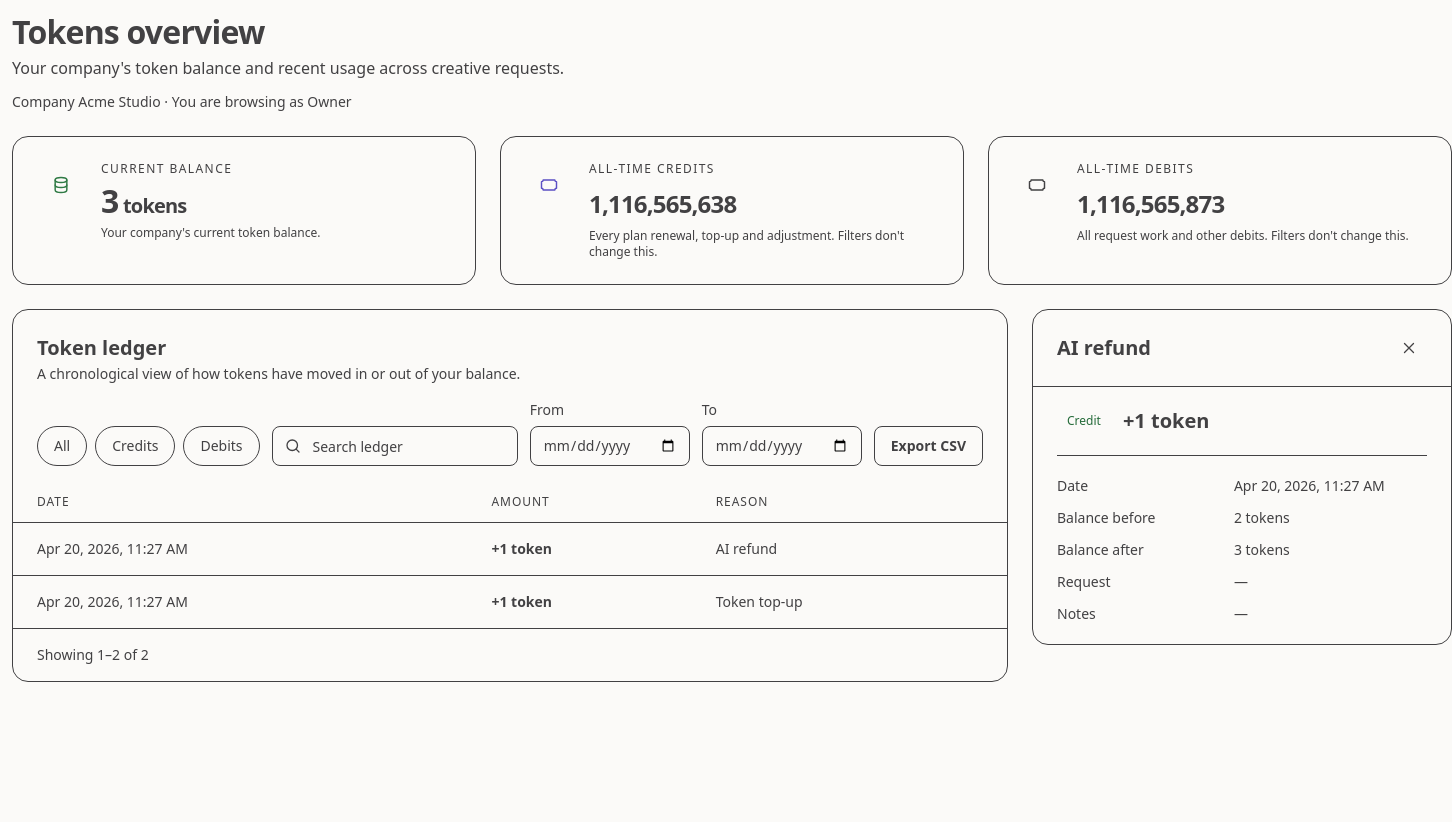
Customer tokens › searches on the server after a pause in typing
This screenshot has width=1452, height=822.
Expected: the text "Showing 1–2 of 2" is shown, [37,645,149,665]
In the search field: (395, 446) [272,426,518,466], type "t"
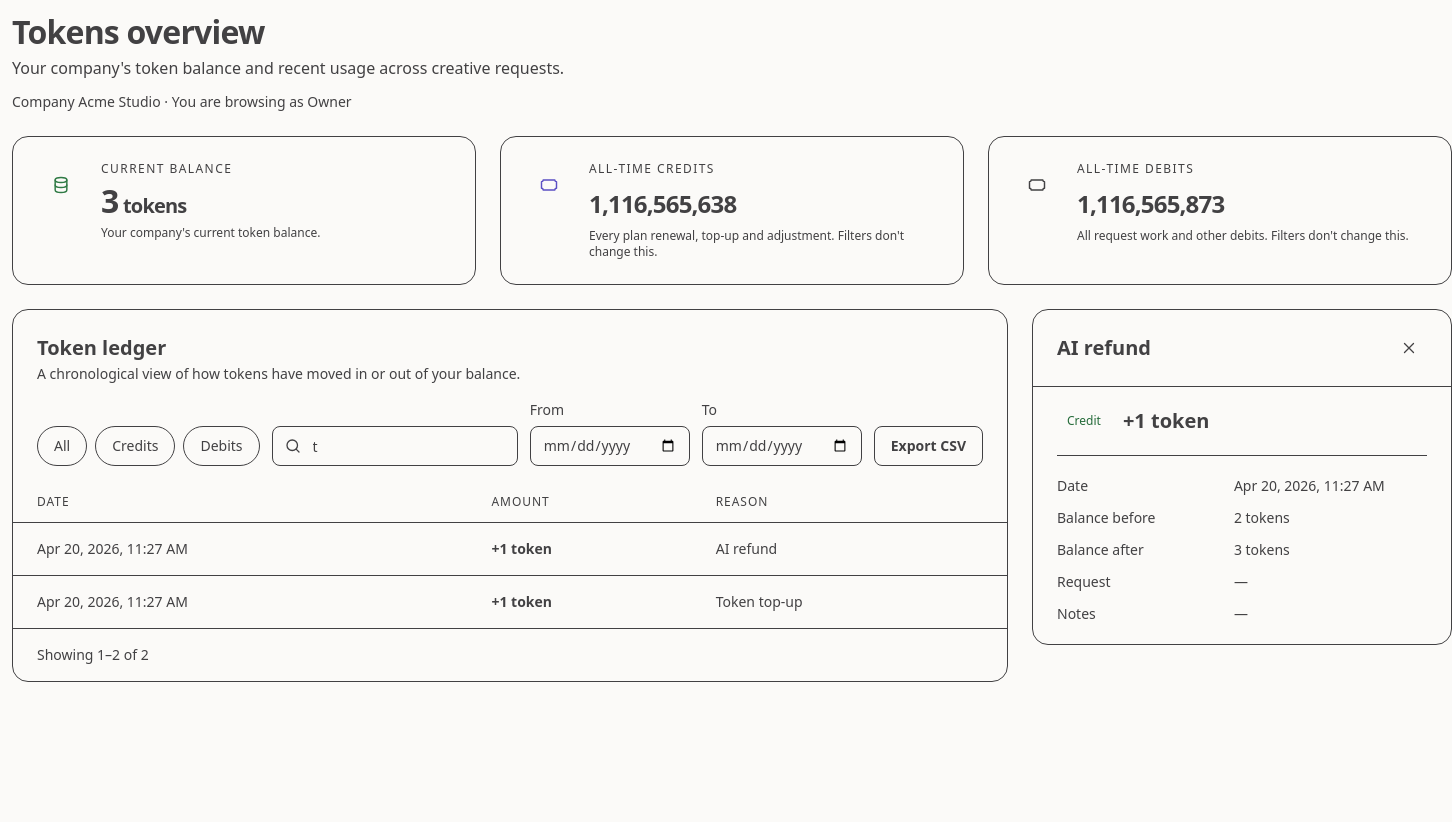
Replace the text in the search field with "topup": (395, 446) [272,426,518,466]
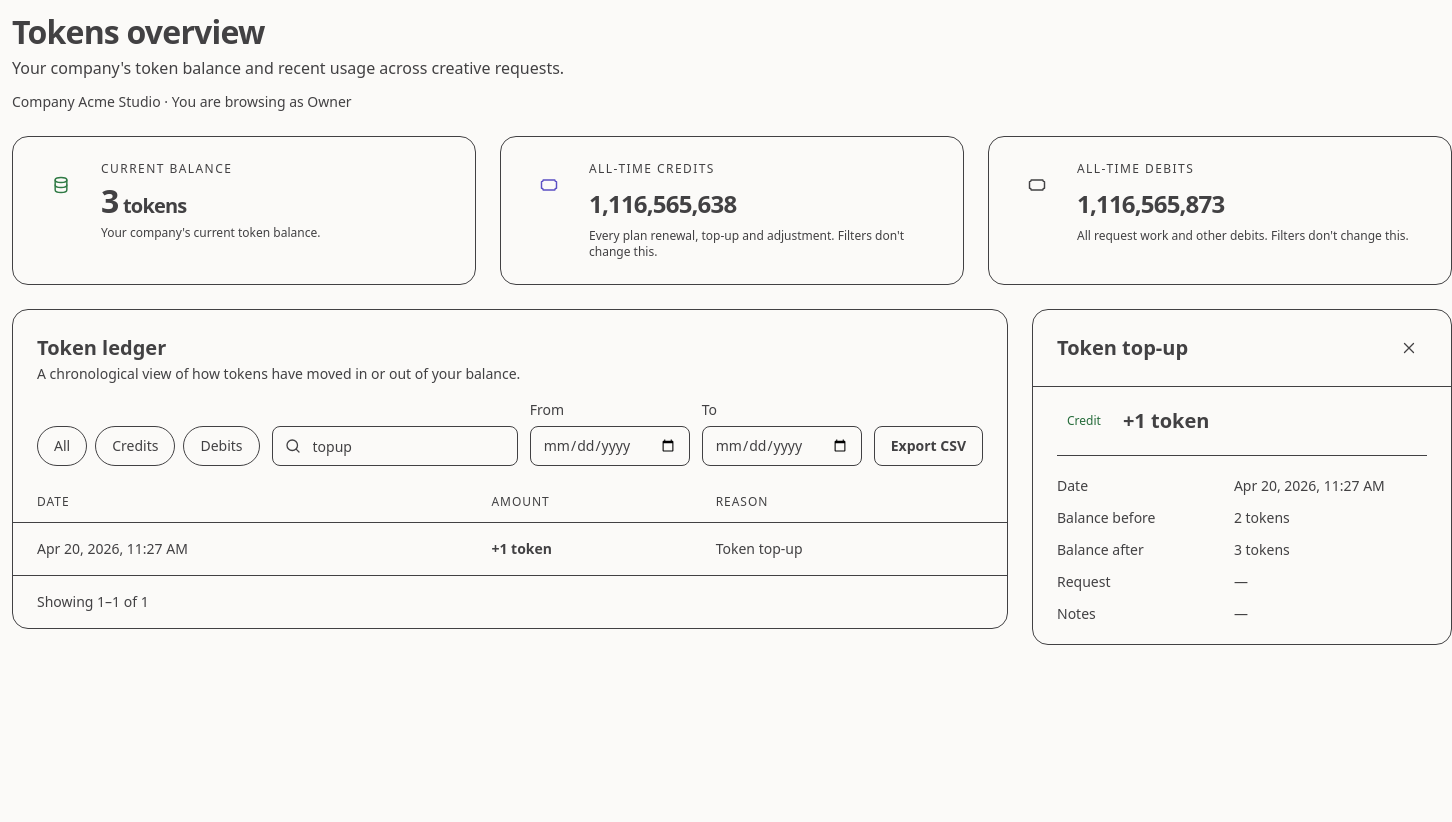
Expected: the text "Showing 1–1 of 1" is shown, [37,592,149,612]
